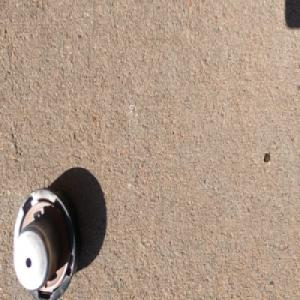FuelCap: (10, 185, 80, 300)
